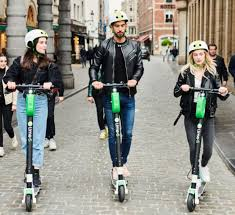kick_wheel: (23, 191, 34, 211), (187, 190, 196, 211), (116, 184, 125, 201)
